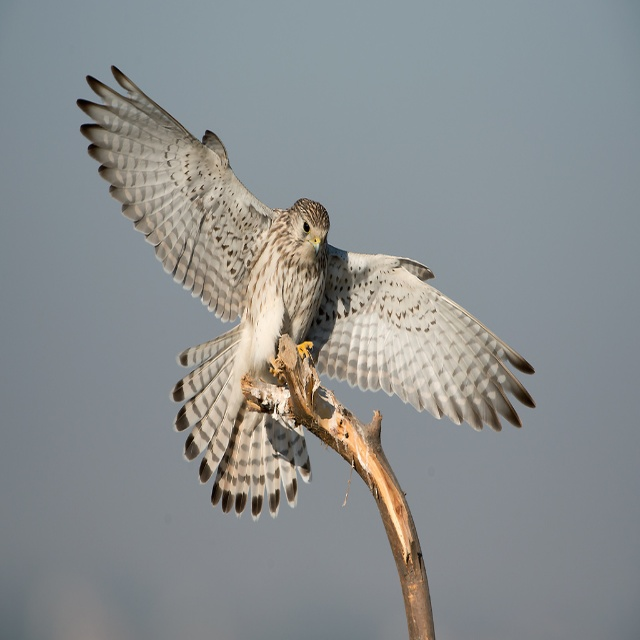Owl: (76, 65, 537, 521)
